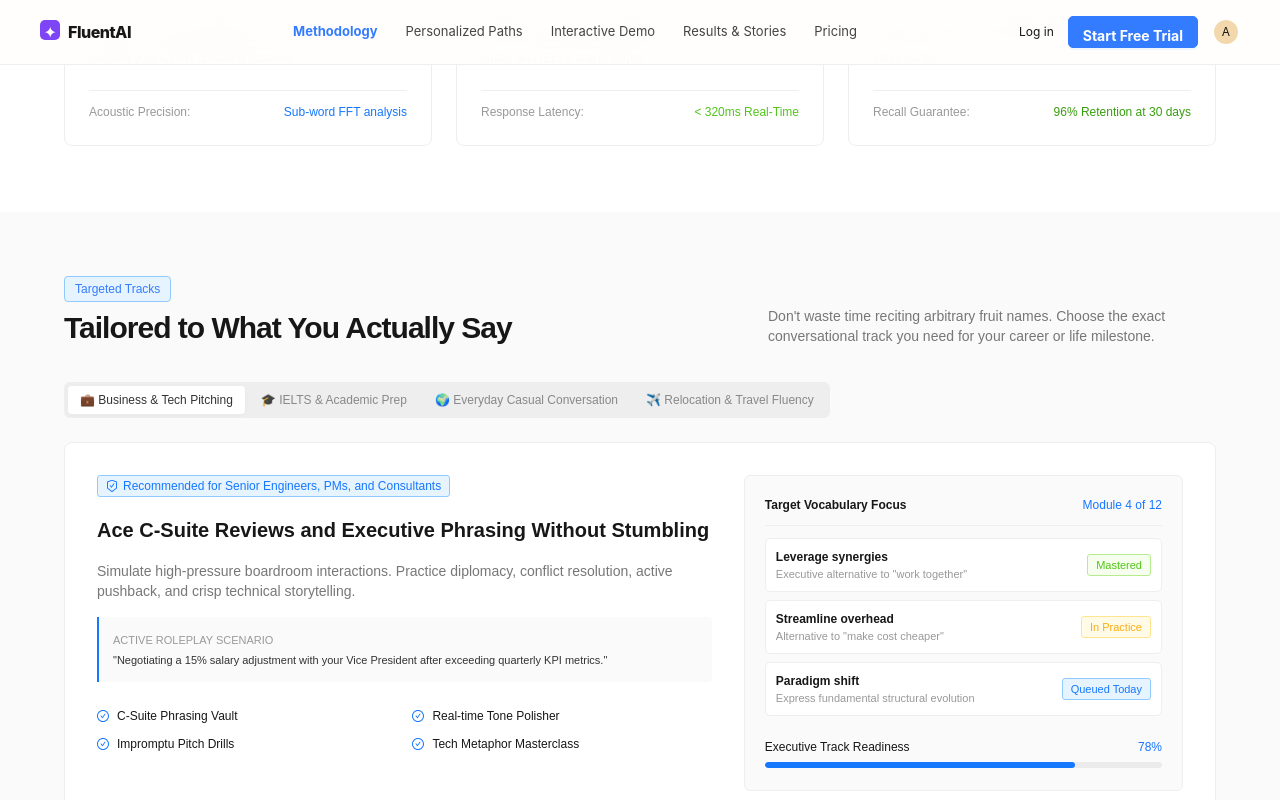
it: switches all related content together and restores business on return
(page scrolled)
Click the button "🎓 IELTS & Academic Prep" at (334, 400), box [249,386,419,414]
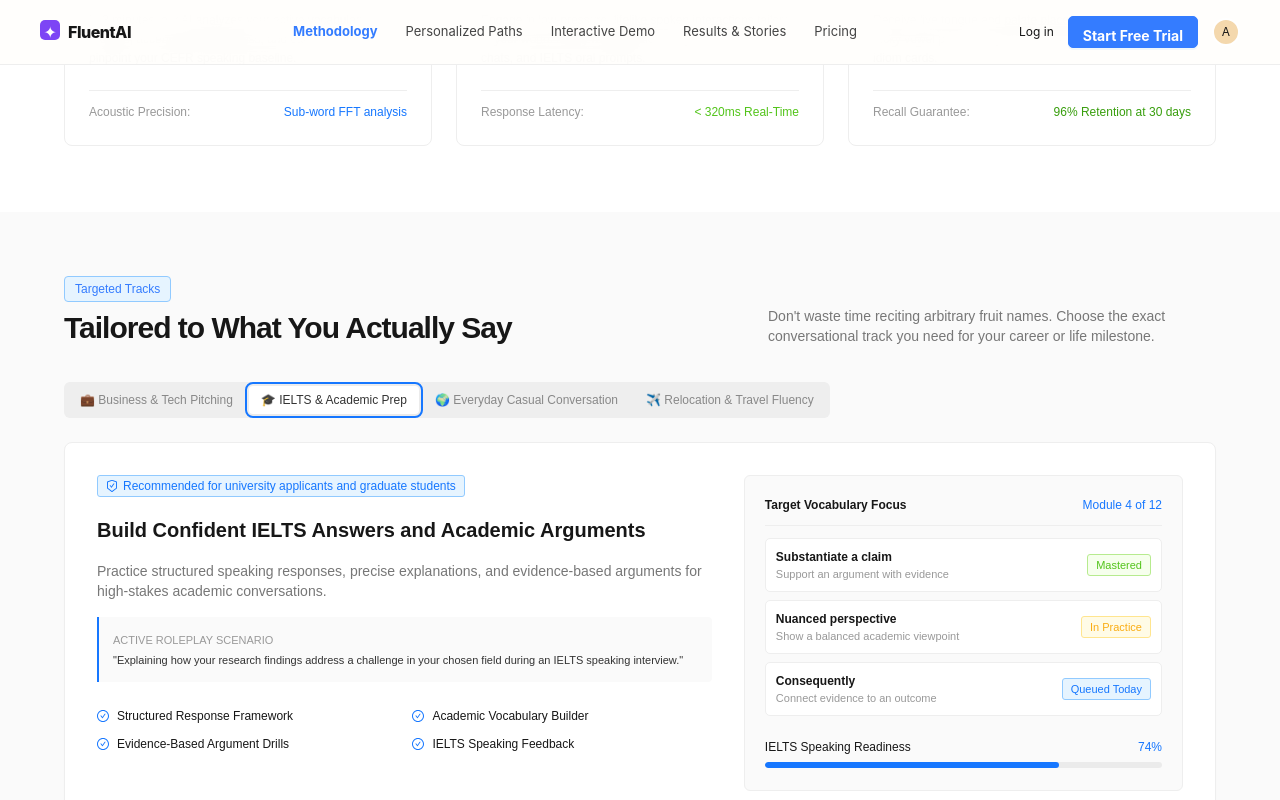
Expected: the heading "Build Confident IELTS Answers and Academic Arguments" is shown, [97,517,712,543]
Expected: the text "Substantiate a claim" is shown, [776,550,892,564]
Expected: the text "74%" is shown, [1138,738,1162,756]
Click the button "🌍 Everyday Casual Conversation" at (527, 400), box [423,386,630,414]
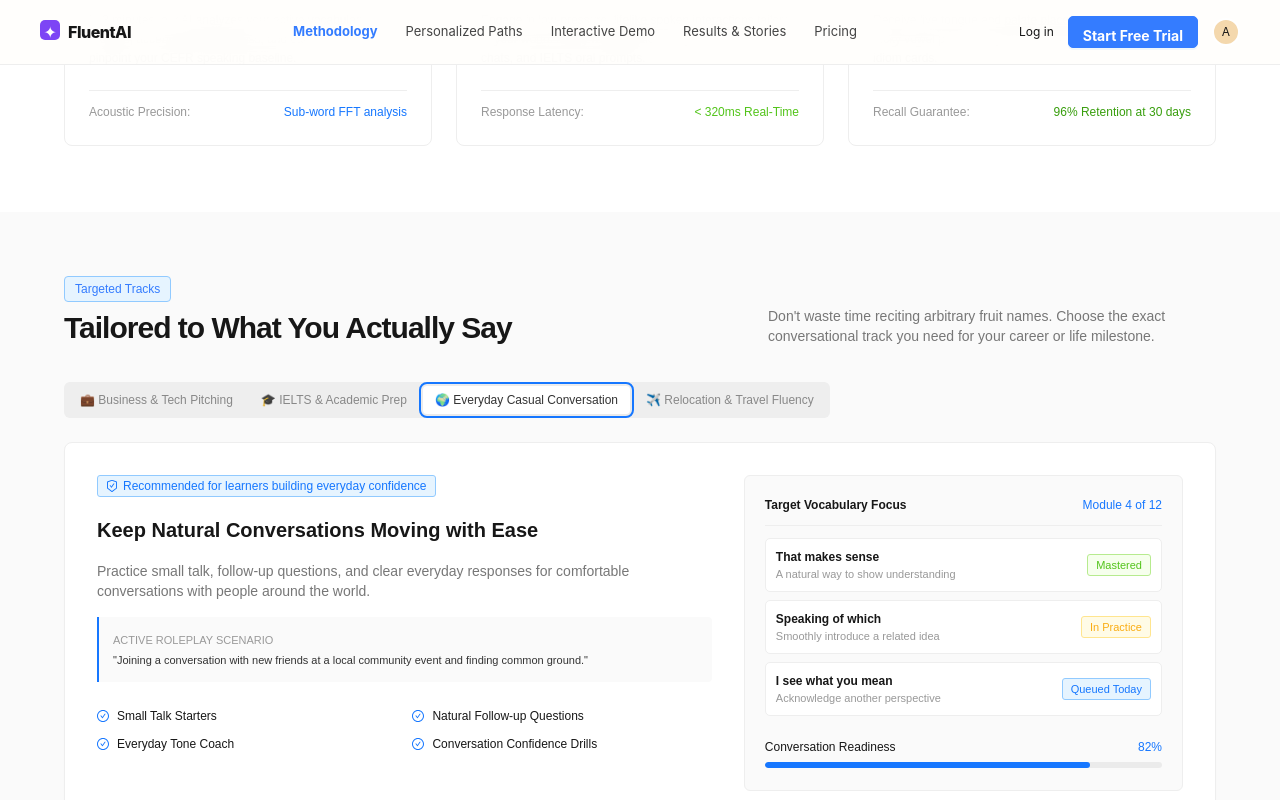
Expected: the heading "Keep Natural Conversations Moving with Ease" is shown, [97,519,538,541]
Expected: the text "That makes sense" is shown, [776,550,879,564]
Expected: the text "82%" is shown, [1138,738,1162,756]
Click the button "✈️ Relocation & Travel Fluency" at (730, 400), box [634,386,826,414]
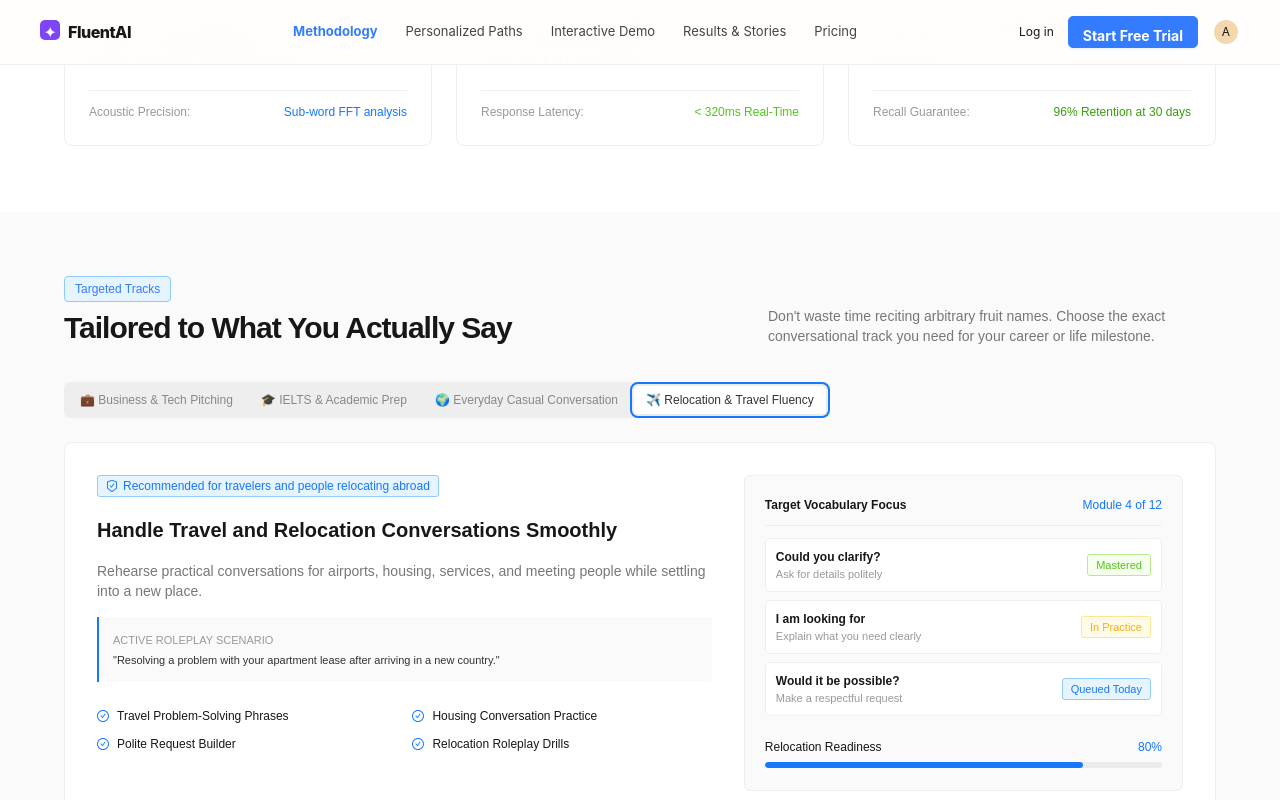
Expected: the heading "Handle Travel and Relocation Conversations Smoothly" is shown, [97,519,617,541]
Expected: the text "Could you clarify?" is shown, [776,550,880,564]
Expected: the text "80%" is shown, [1138,738,1162,756]
Click the button "💼 Business & Tech Pitching" at (156, 400), box [68,386,245,414]
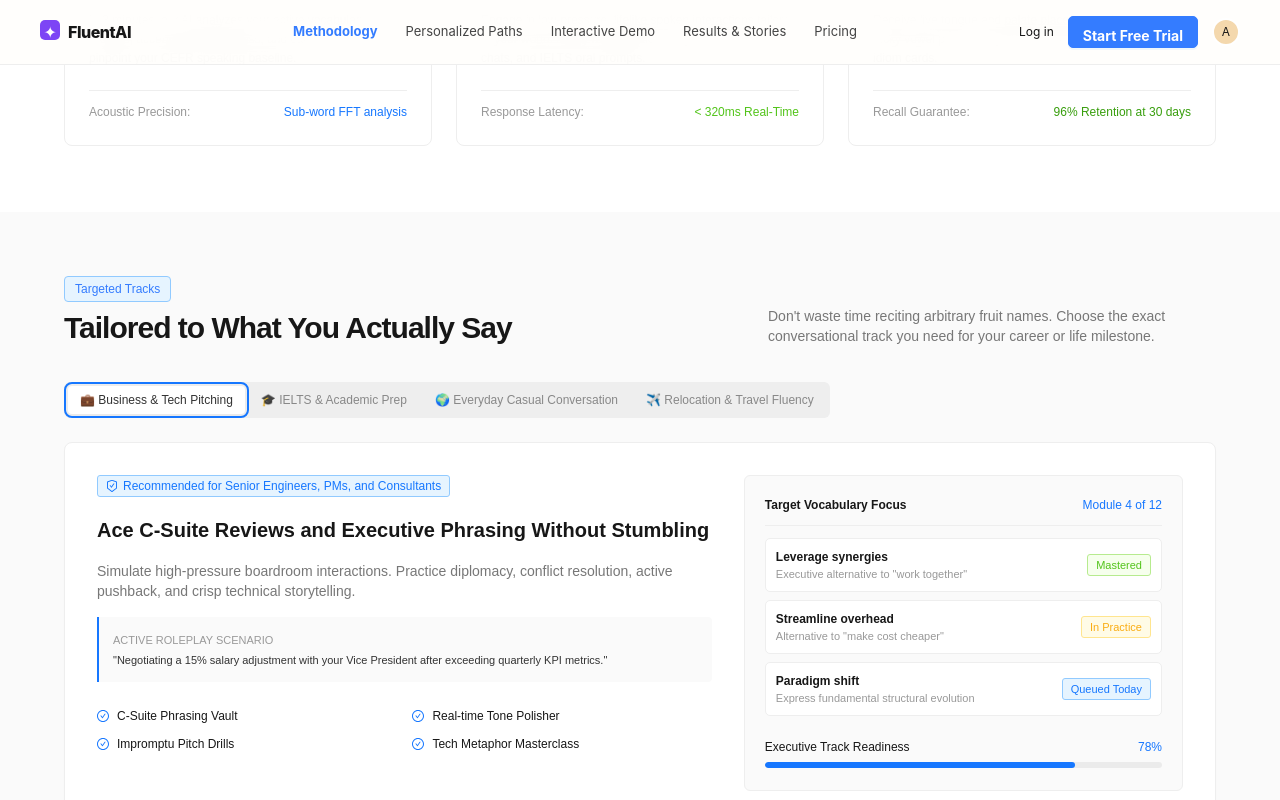
Expected: the heading "Ace C-Suite Reviews and Executive Phrasing Without Stumbling" is shown, [97,517,712,543]
Expected: the text "Leverage synergies" is shown, [776,550,888,564]
Expected: the text "78%" is shown, [1138,738,1162,756]
